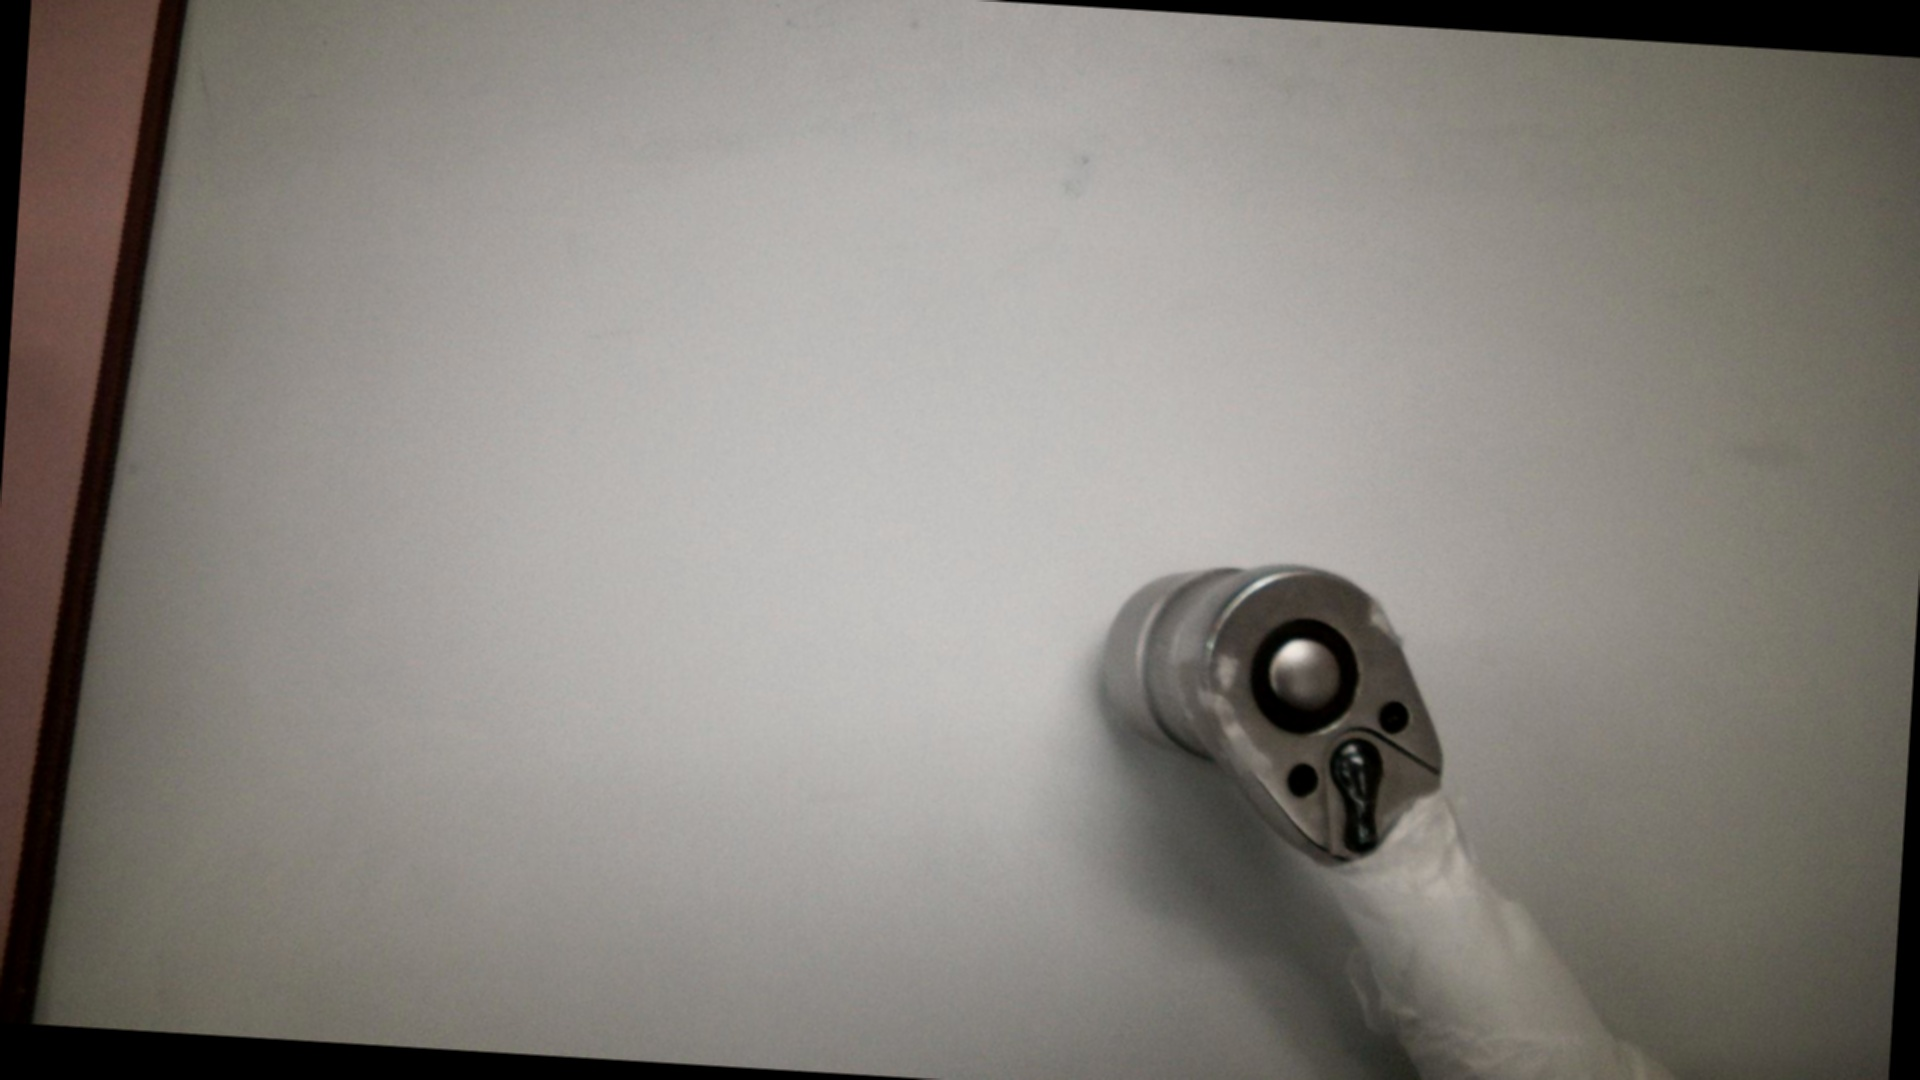wrench: (1253, 611, 1365, 740)
